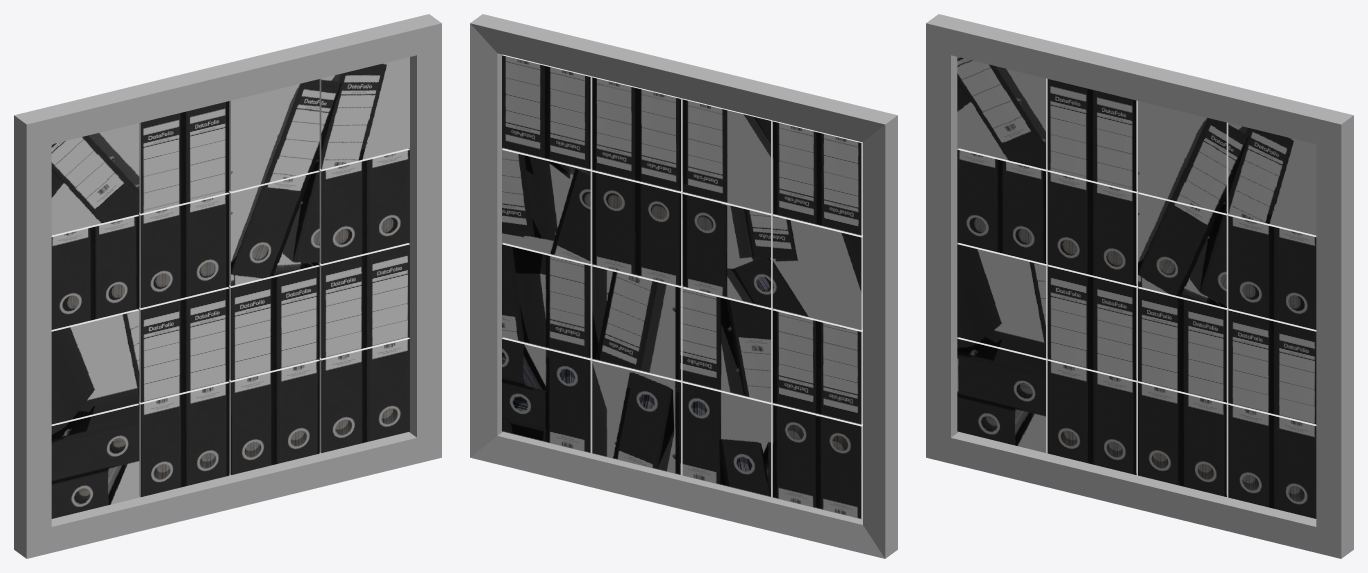
File: puzzle1_ringbinder.fbx
The picture shows the model from 3 angles, left to right: view 1: azimuth 30°, elevation 25°; view 2: azimuth 150°, elevation 25°; view 3: azimuth 330°, elevation 25°; orthographic projection.
Parts seen in each view (by area): view 1: tl_1, sic, eleven, twelve, sixteen, fourteen, five, ten, fifteen, seven, nine, thirteen (+5 smaller); view 2: tl_1, sic, eleven, twelve, sixteen, five, fourteen, ten, thirteen, fifteen, seven, eight (+5 smaller); view 3: tl_1, seven, nine, ten, thirteen, eight, fourteen, fifteen, eleven, sic, twelve, sixteen (+5 smaller).
Part boxes in pixels (x1,y1,x2,y2): tl_1: [14, 14, 441, 558]; sic: [228, 170, 319, 286]; eleven: [228, 265, 319, 380]; twelve: [318, 243, 409, 358]; sixteen: [318, 337, 409, 452]; fourteen: [138, 381, 229, 496]; five: [318, 148, 409, 263]; ten: [138, 287, 229, 402]; fifteen: [228, 359, 319, 474]; seven: [138, 192, 229, 307]; nine: [51, 309, 139, 424]; thirteen: [51, 403, 139, 518]; tl_1: [470, 14, 897, 558]; sic: [592, 170, 683, 286]; eleven: [592, 265, 683, 380]; twelve: [502, 243, 593, 358]; sixteen: [502, 337, 593, 452]; five: [502, 148, 593, 263]; fourteen: [682, 381, 773, 496]; ten: [682, 287, 773, 402]; thirteen: [772, 403, 862, 519]; fifteen: [592, 359, 683, 474]; seven: [682, 192, 773, 307]; eight: [772, 214, 862, 330]; tl_1: [926, 14, 1353, 558]; seven: [1047, 170, 1139, 285]; nine: [957, 243, 1048, 358]; ten: [1047, 265, 1139, 380]; thirteen: [957, 337, 1048, 452]; eight: [957, 148, 1049, 263]; fourteen: [1047, 359, 1139, 474]; fifteen: [1138, 381, 1229, 496]; eleven: [1138, 287, 1229, 402]; sic: [1138, 192, 1229, 307]; twelve: [1228, 309, 1316, 424]; sixteen: [1228, 403, 1316, 518].
Size of the model in its own units: 151 by 151 by 8.
